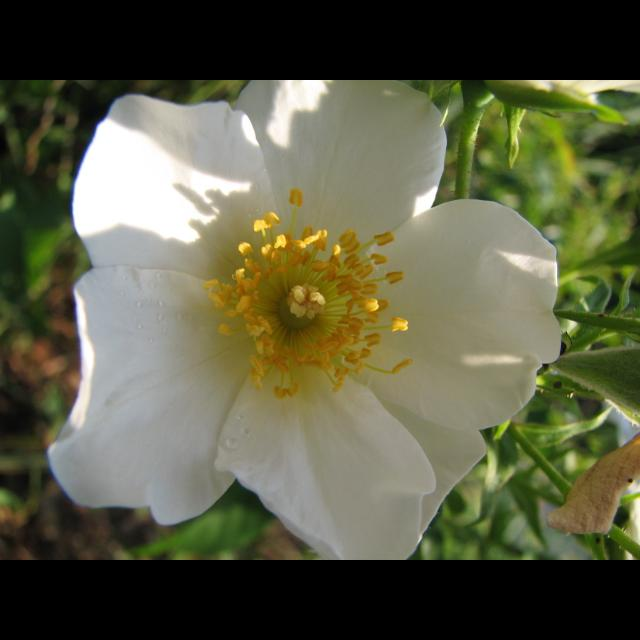Flower: (48, 102, 534, 556)
